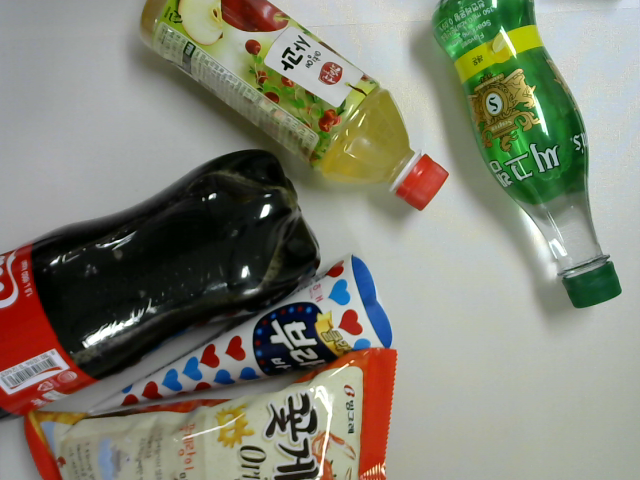Bravo_Cone_(Banila)_CVS: (79, 254, 401, 423)
Coca_Cola_1.5L: (1, 141, 330, 424)
Crabrang: (19, 340, 406, 480)
Morning_Apple_500ml: (125, 1, 454, 219)
Seagram_Lemon_Carbonated_Water: (415, 1, 627, 317)
